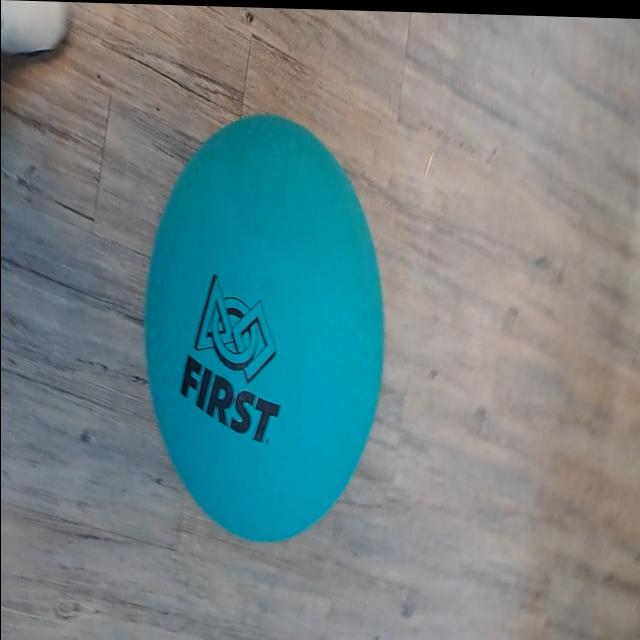ALGAE: (142, 107, 386, 548)
